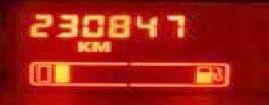0: (78, 12, 104, 37)
2: (24, 11, 51, 37)
3: (56, 11, 76, 37)
4: (133, 13, 158, 38)
7: (162, 12, 187, 38)
8: (107, 12, 129, 37)
X: (89, 39, 109, 52), (73, 39, 89, 52)
